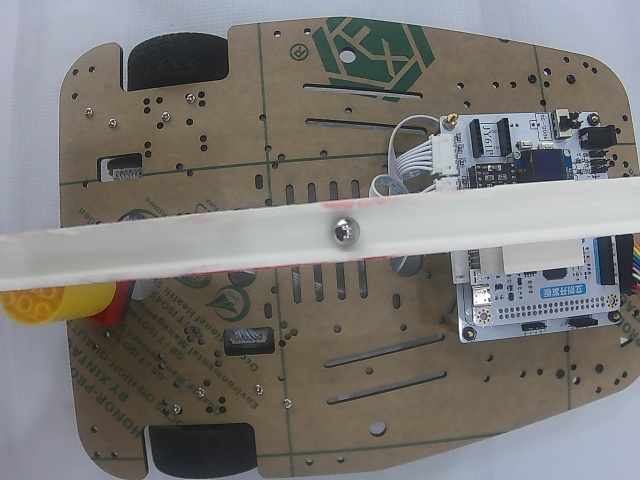steelball: (330, 215, 360, 245)
